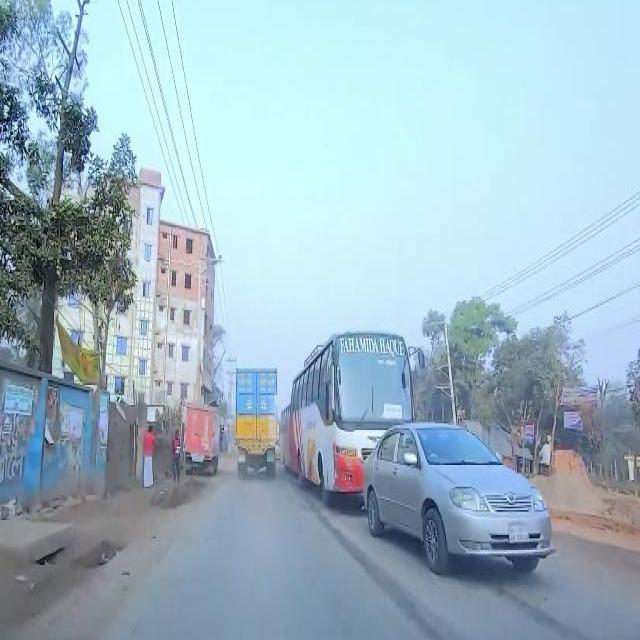bus: (291, 332, 363, 502)
car: (364, 422, 552, 575)
pickup: (183, 403, 221, 474)
truck: (235, 366, 278, 477)
